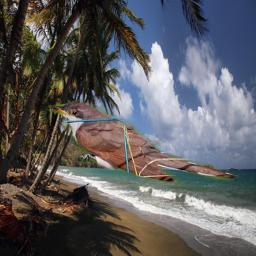Cuckoo: (46, 97, 241, 191)
